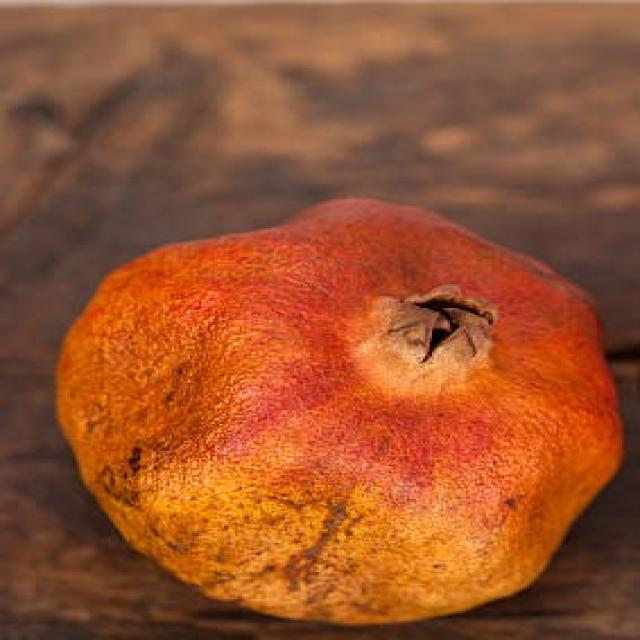overripe: (48, 187, 633, 634)
